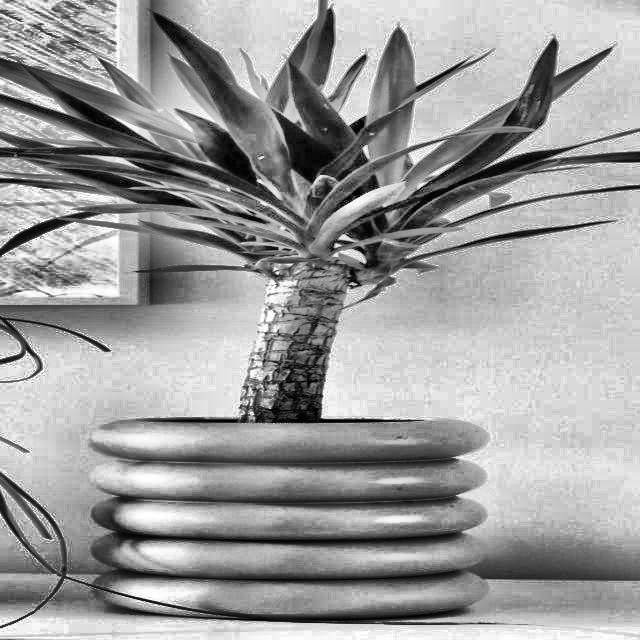plants: (19, 22, 632, 560)
